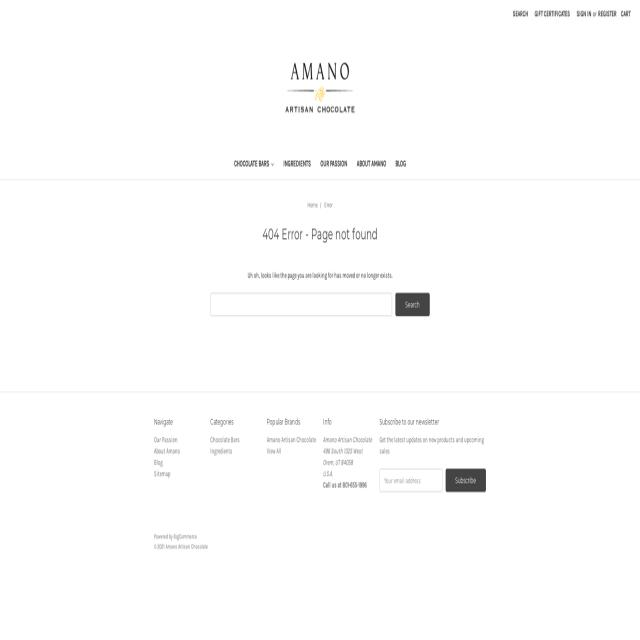button: (284, 58, 356, 115), (230, 150, 277, 178), (531, 0, 573, 28), (352, 151, 391, 179), (278, 151, 316, 179), (316, 151, 352, 179), (446, 468, 486, 492), (395, 293, 429, 317), (594, 0, 620, 28), (573, 0, 595, 28), (510, 0, 531, 28), (391, 151, 411, 179), (620, 0, 634, 28)
field: (210, 293, 392, 317), (380, 468, 442, 492)
